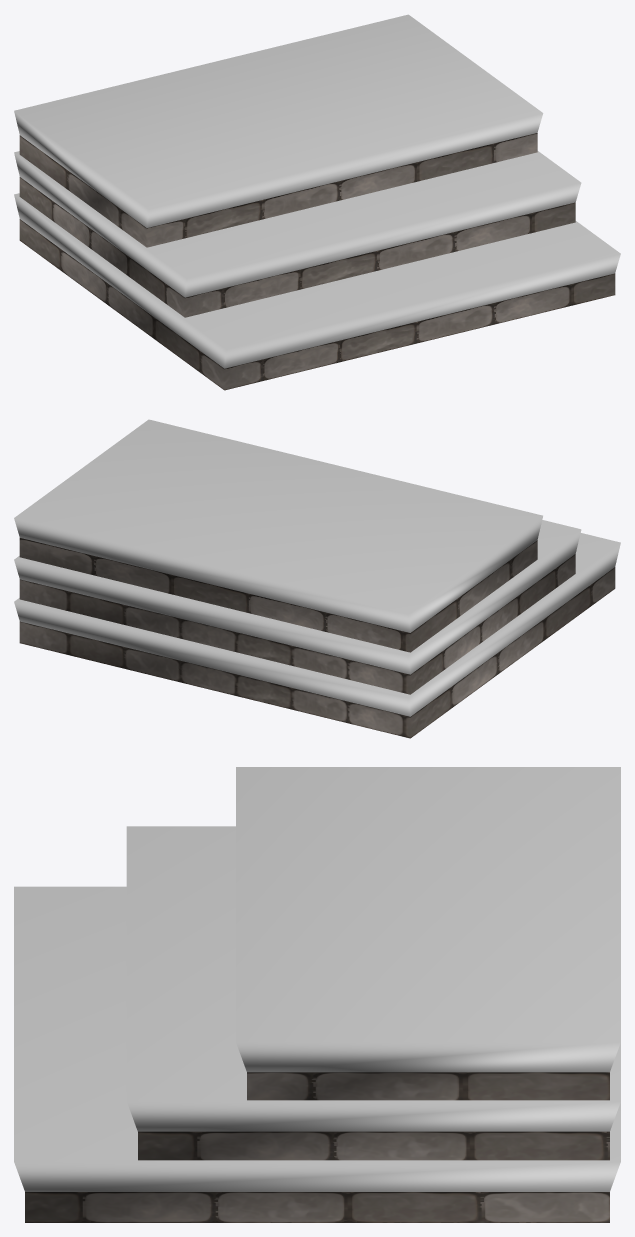
Rendered from StaircaseSmall_1.fbx.
3 renders of one model, top to bottom at view 1: azimuth 30°, elevation 25°; view 2: azimuth 150°, elevation 25°; view 3: azimuth 270°, elevation 25°, orthographic. The views are drawn at different scales.
Parts seen in each view (by area): view 1: Mesh; view 2: Mesh; view 3: Mesh.
Boxes of the visible parts, box(x1,y1,x2,y2) form: Mesh: box(14, 14, 620, 390); Mesh: box(14, 419, 620, 738); Mesh: box(14, 767, 620, 1222).
Size of the model in its own units: 194 by 60.03 by 181.
